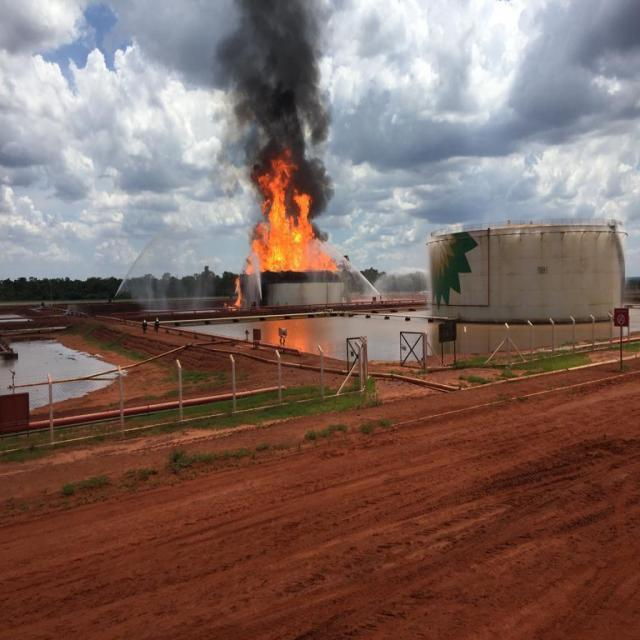Fire: (242, 162, 339, 276), (230, 279, 242, 307)
